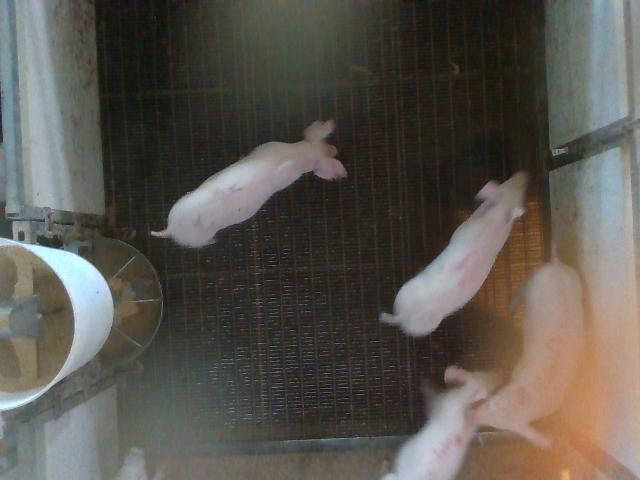pig-3: (475, 259, 586, 447)
pig-4: (380, 171, 527, 336)
pig-5: (384, 366, 502, 478)
